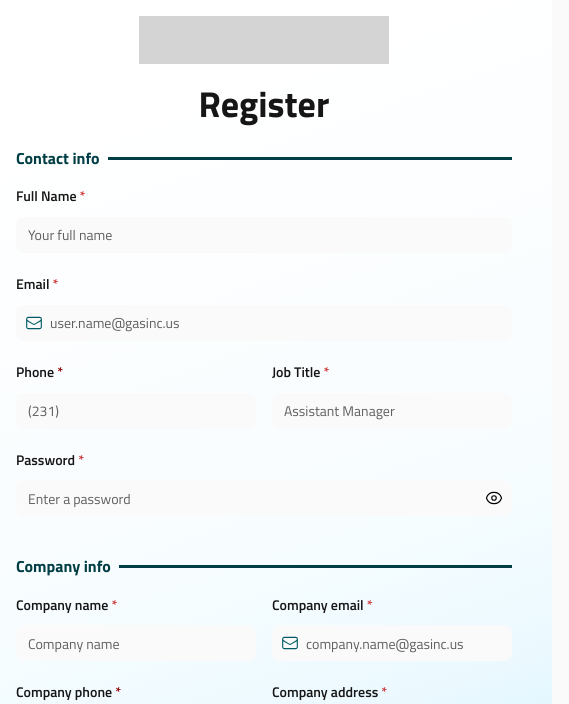
Scenario: RegisterForm Component › should show error message for invalid phone
This screenshot has width=569, height=704.
Type "123" into the field with test id "phone-input" at (136, 410), box [16,392,256,428]
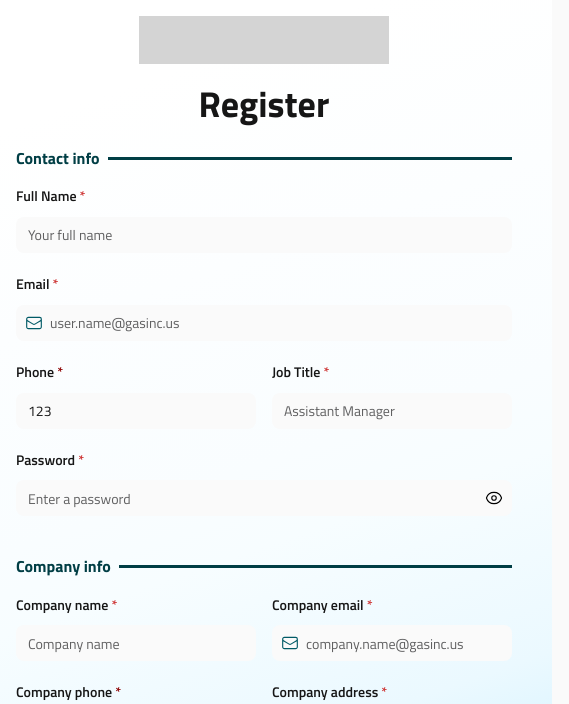
Press Tab
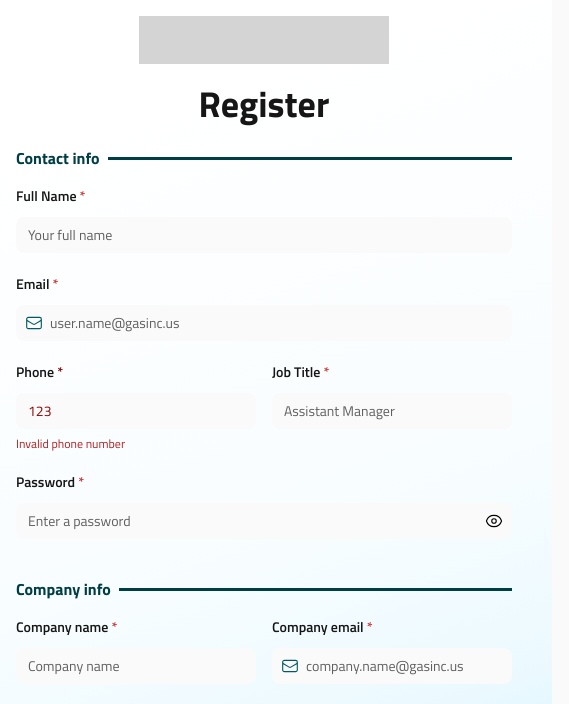
Result: the text "Invalid phone number" is shown at [16,434,125,452]
